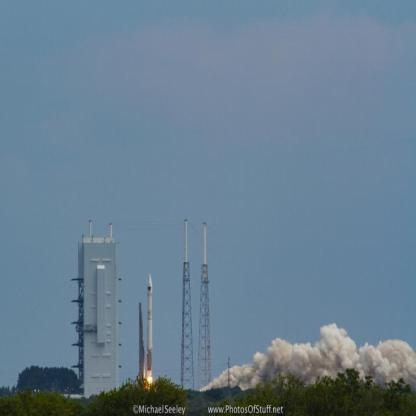MIL_TBM: (146, 272, 154, 374)
